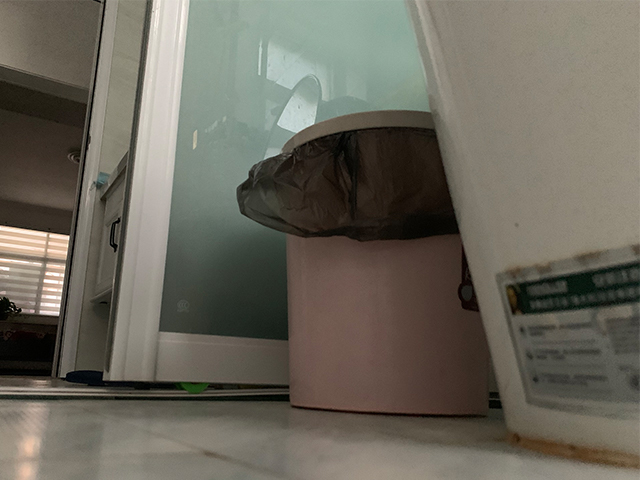closestool: (402, 1, 640, 465)
trashcan: (279, 109, 492, 418)
